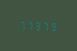nine: (50, 20, 57, 31)
seven: (18, 19, 25, 30), (26, 19, 33, 30), (42, 20, 49, 31)
three: (34, 19, 41, 31)
